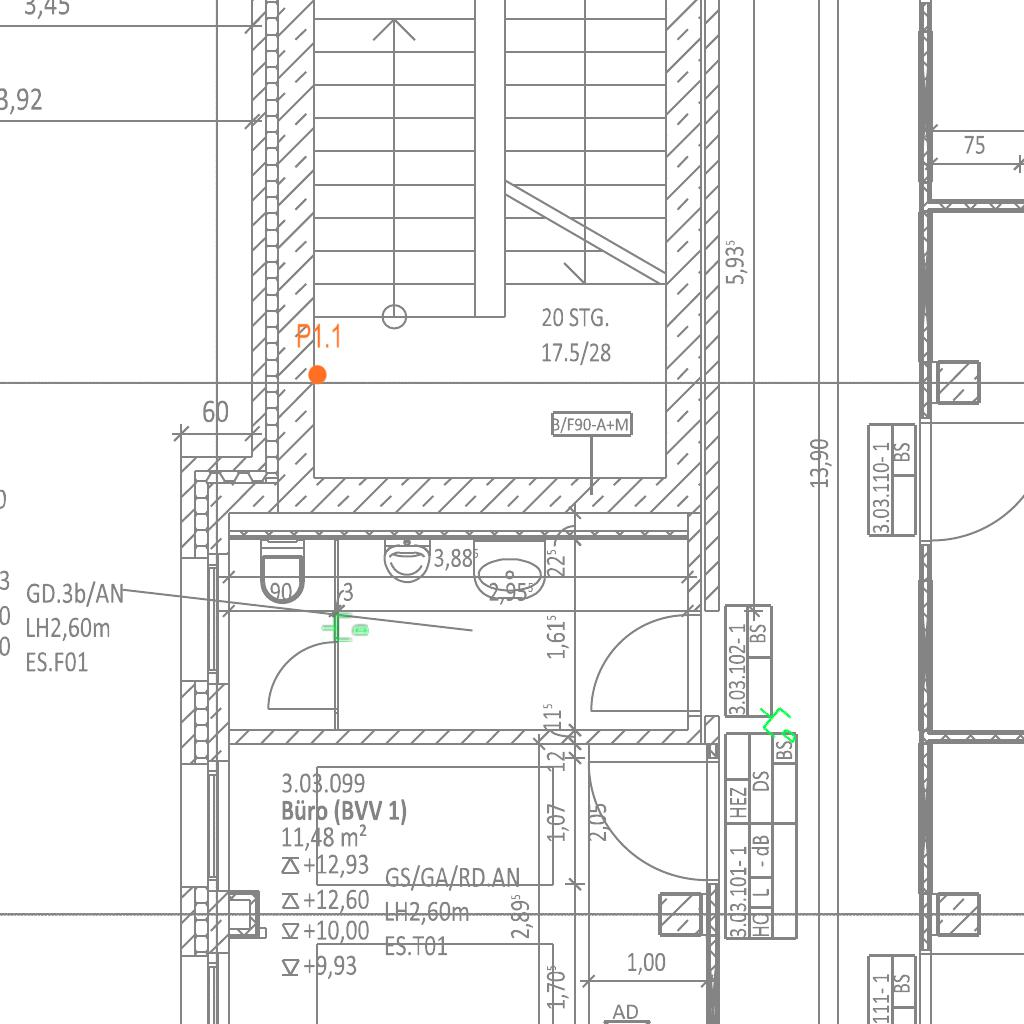Datenanschluss_einfach: (748, 693, 810, 753), (320, 610, 370, 644)
Downlight_LED_Einbauleuchten_Flur: (296, 322, 342, 386)
